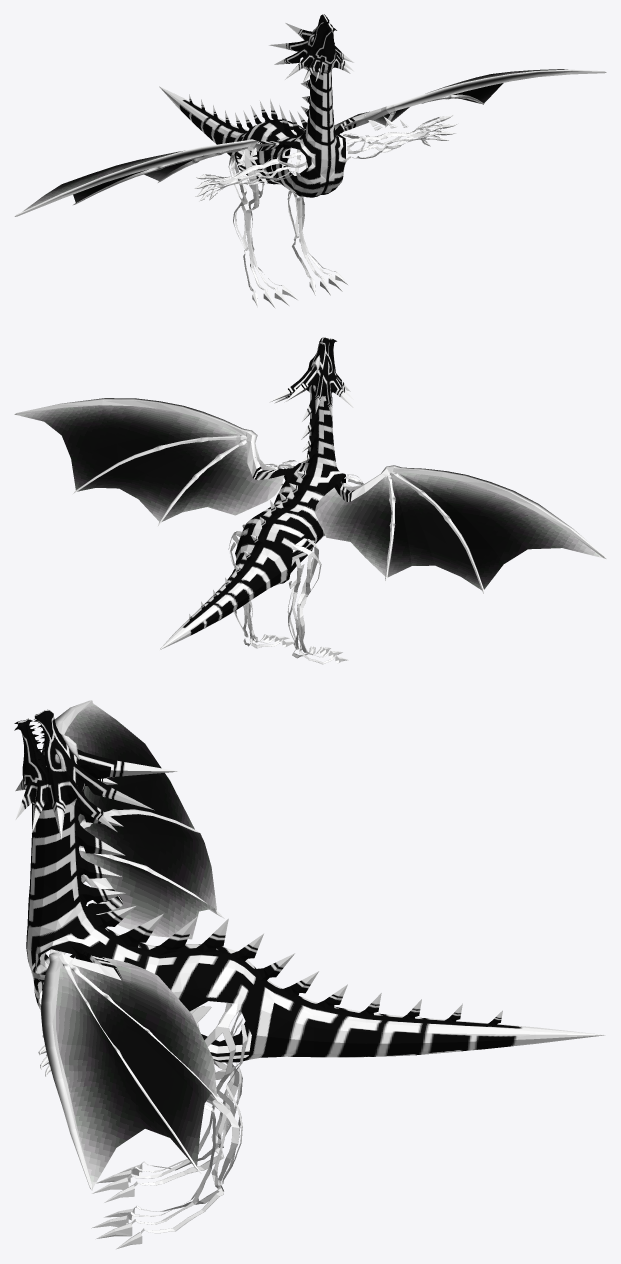
The model's file is Light_Dragon.obj.
3 renders of one model, top to bottom at view 1: azimuth 30°, elevation 25°; view 2: azimuth 150°, elevation 25°; view 3: azimuth 270°, elevation 25°, orthographic. The views are drawn at different scales.
Visible parts, largest first — view 1: Light_Dragon.001_Light_Dragon; view 2: Light_Dragon.001_Light_Dragon; view 3: Light_Dragon.001_Light_Dragon.
Boxes of the visible parts, x1,y1,x2,y2 form: Light_Dragon.001_Light_Dragon: [14, 14, 606, 308]; Light_Dragon.001_Light_Dragon: [14, 337, 606, 664]; Light_Dragon.001_Light_Dragon: [14, 700, 606, 1249].
Size of the model in its own units: 10.56 by 5.06 by 5.4.
Materials: 4 (4 with a texture image).
